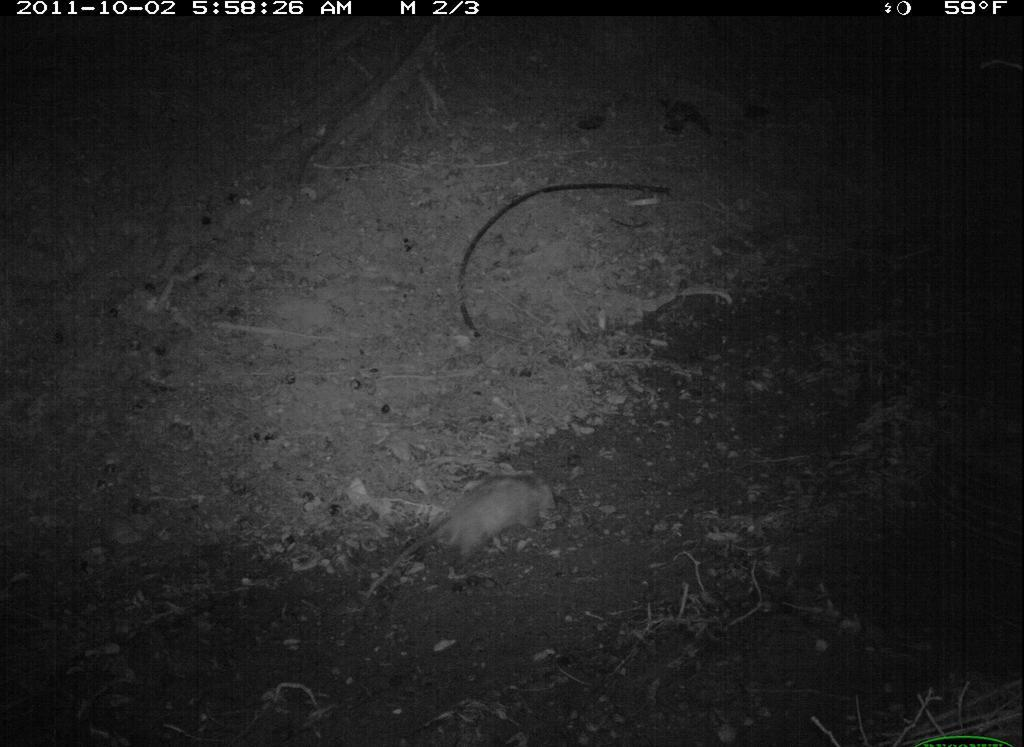opossum: (358, 451, 578, 575)
